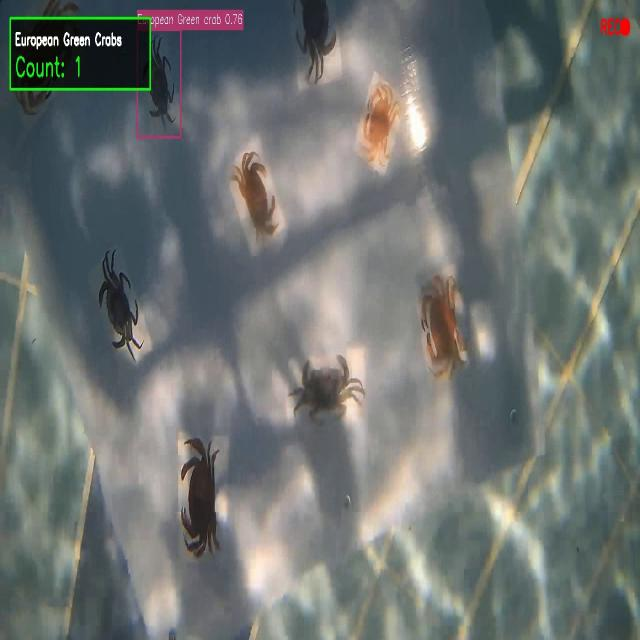European_Green_Crab: (85, 232, 158, 383), (285, 344, 365, 430), (293, 2, 341, 96), (145, 19, 185, 128)
